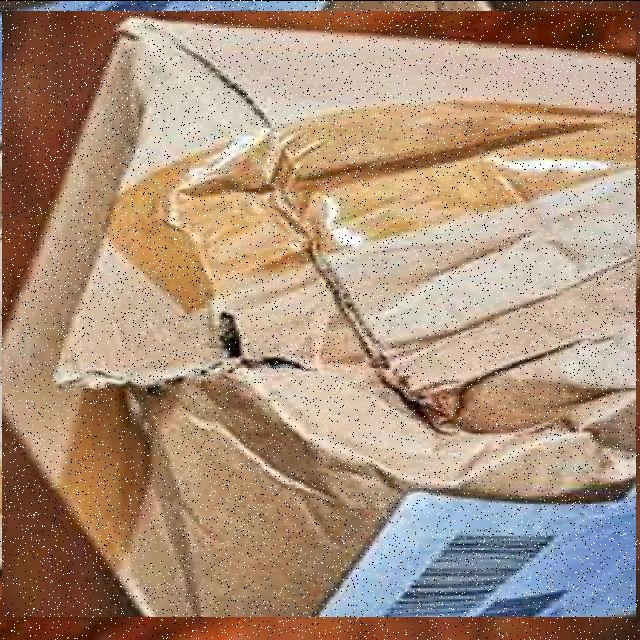defect: (2, 9, 636, 616)
